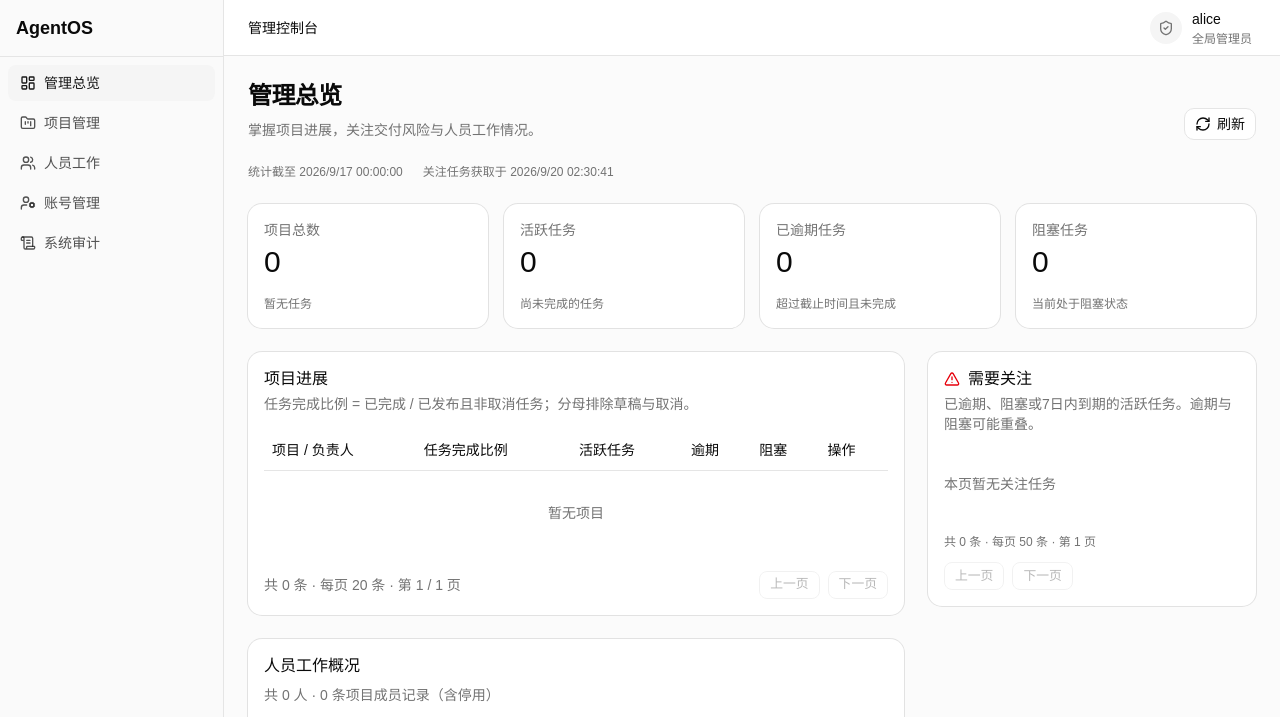
Scenario: AdminConsolePage 管理控制台 › 账号管理：新建账号提交 POST /users 并展示一次性初始密码
The width and height of the screenshot is (1280, 717).
Click the button "账号管理". click: (112, 203)
box: [8,185,215,221]
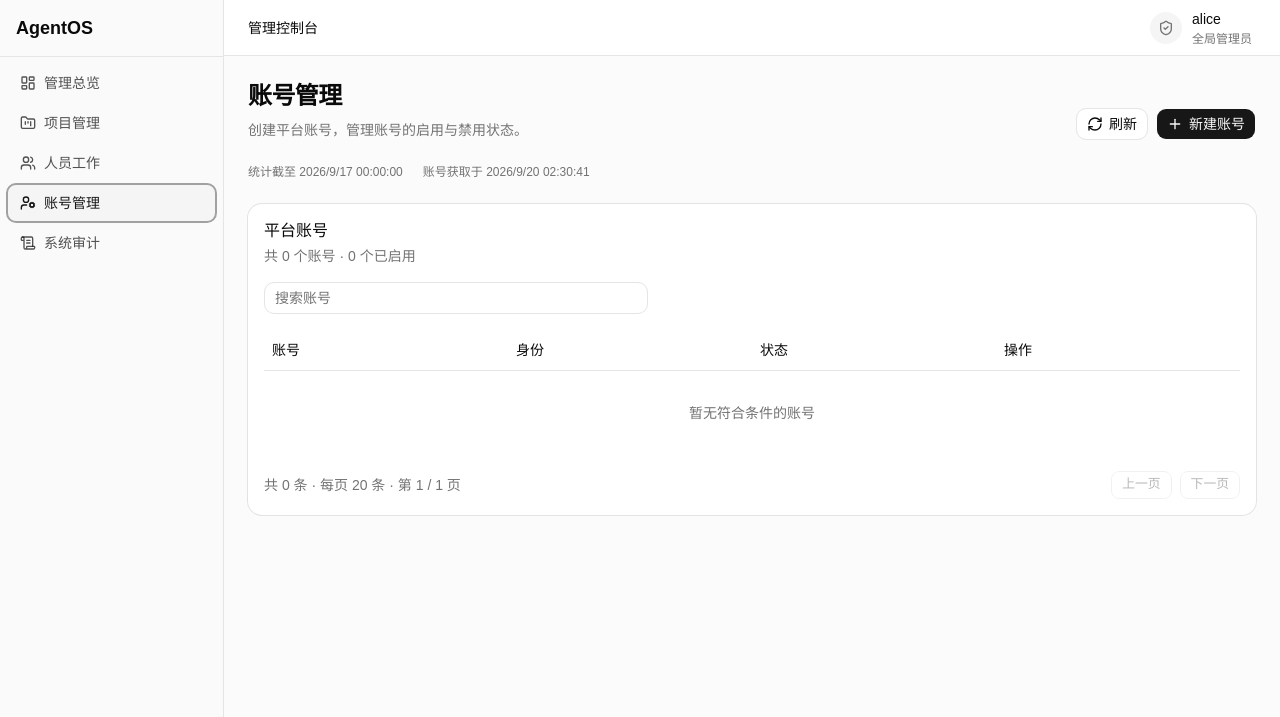
Click the button "新建账号". click: (1206, 124)
box: [1156,108,1256,140]
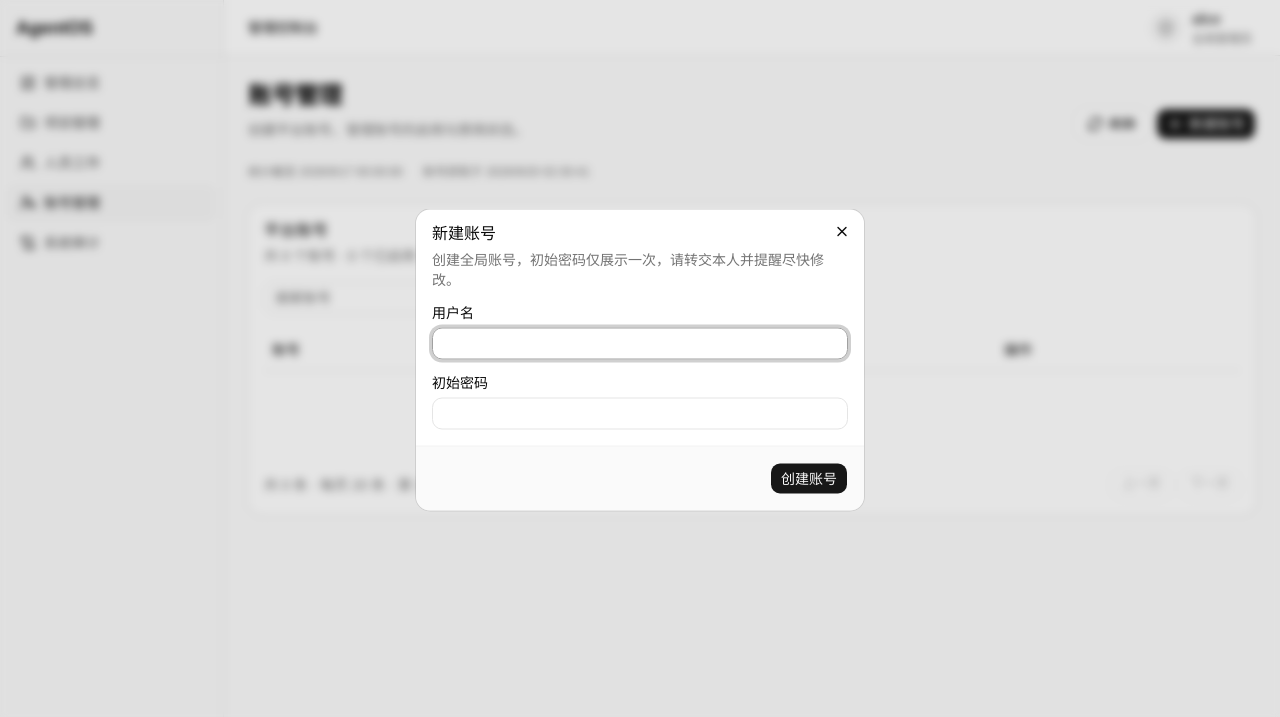
expect the dialog is shown: met, box [416,210,864,510]
Type "carol" into the field labelled "用户名". click: (640, 344)
box: [432,328,848,360]
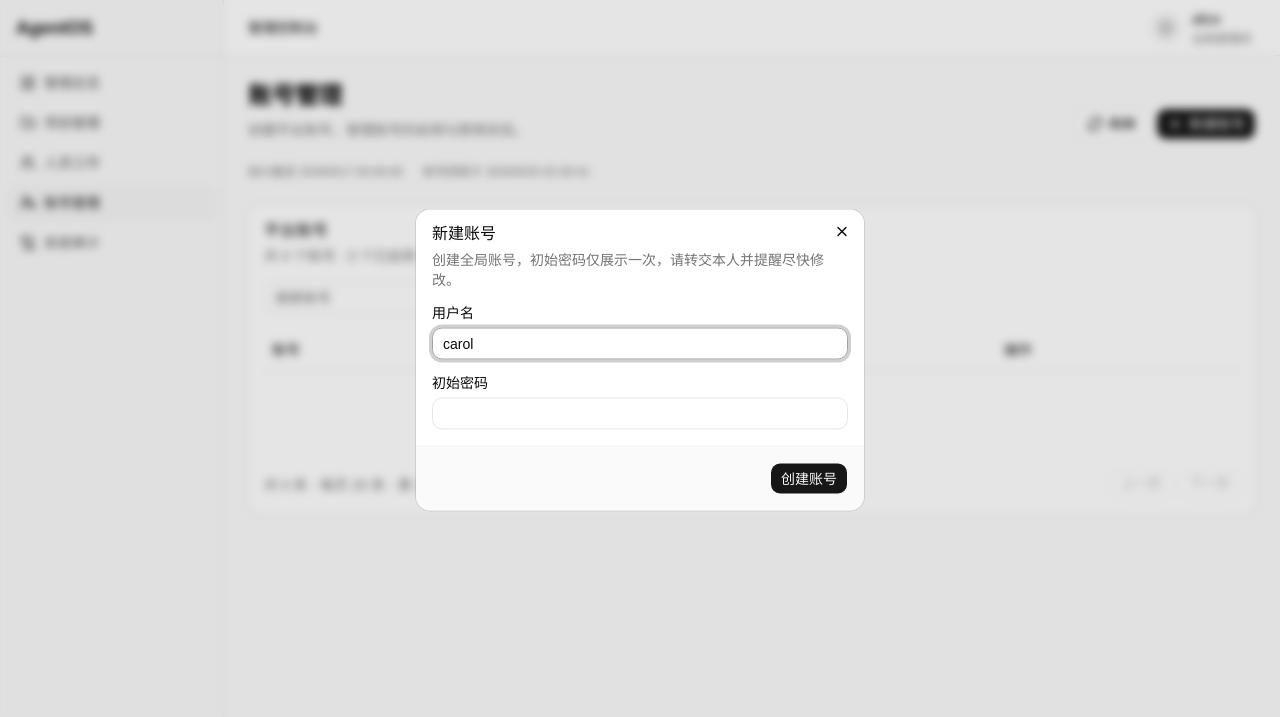
Type "CarolInitial1" into the password field labelled "初始密码". click: (640, 414)
box: [432,398,848,430]
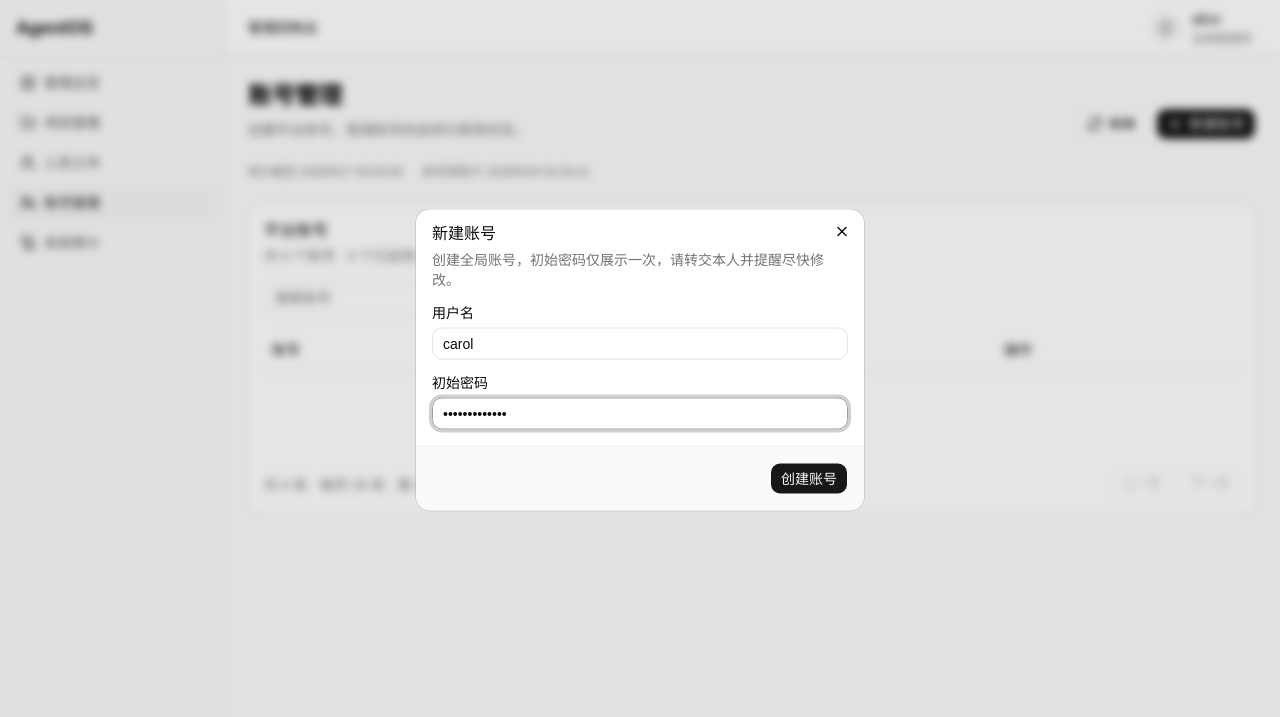
Click the button "创建账号". click: (809, 478)
box: [770,462,848,494]
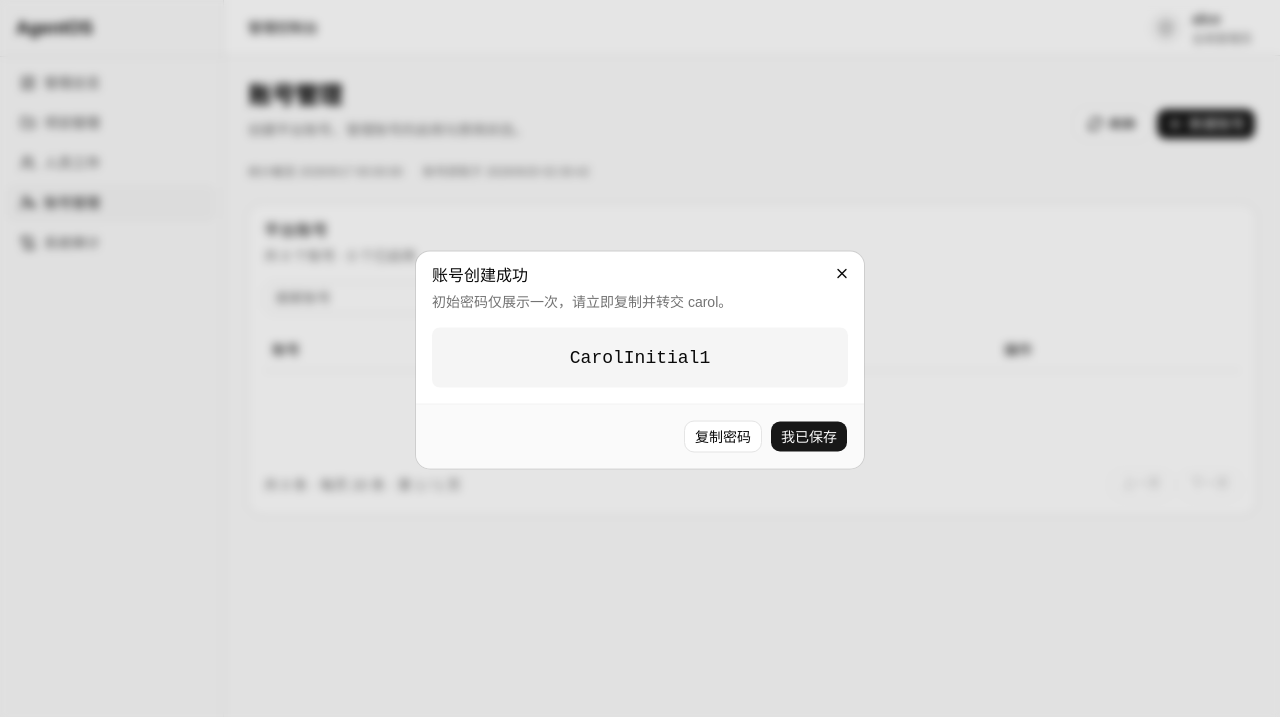
expect the text "CarolInitial1" is shown: met, box [432,328,848,388]
